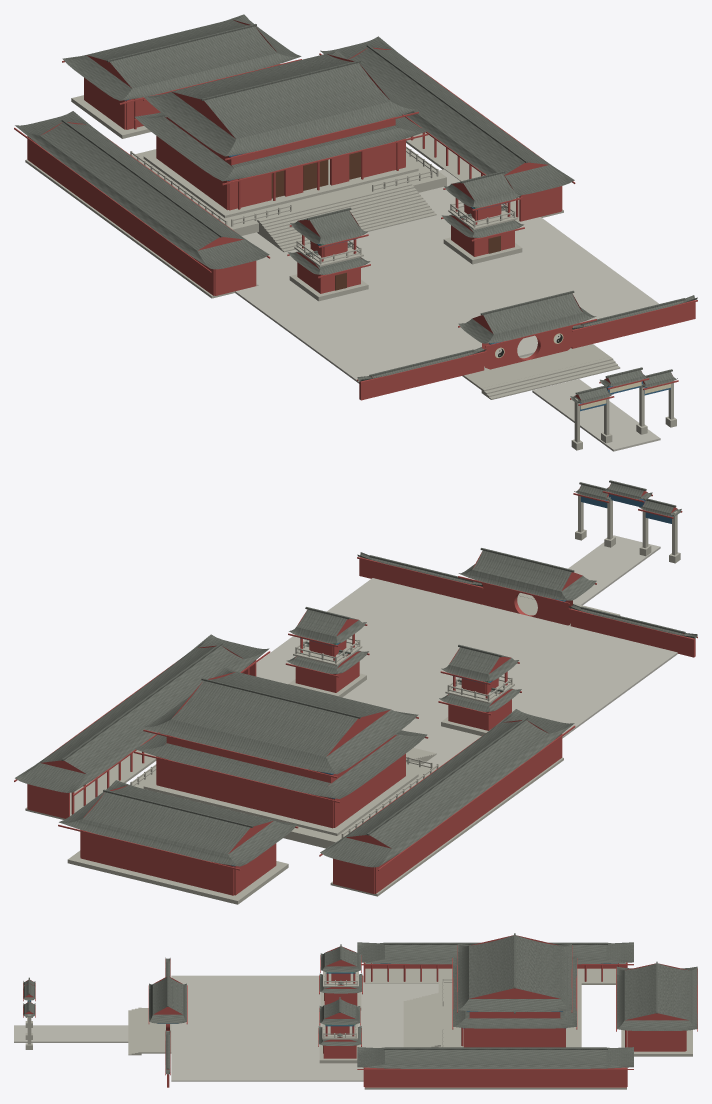
The model's file is zhengyi-study.glb.
3 renders of one model, top to bottom at view 1: azimuth 30°, elevation 25°; view 2: azimuth 150°, elevation 25°; view 3: azimuth 270°, elevation 25°, orthographic. The views are drawn at different scales.
Parts seen in each view (by area): view 1: main courtyard paving, side gallery roof upper gable slopes, Zhengyi central double-eave hall upper roof upper gable slop, side gallery roof flared skirt, rear hall observed footprint lower roof upper gable slopes, Zhengyi central double-eave hall upper roof flared skirt, Zhengyi central double-eave hall lower roof flared skirt, main hall access stair, front red boundary wall, side gallery outer wall, rear hall observed footprint lower roof flared skirt, Zhengyi central double-eave hall front wall (+28 smaller); view 2: main courtyard paving, side gallery roof upper gable slopes, Zhengyi central double-eave hall upper roof upper gable slop, side gallery roof flared skirt, rear hall observed footprint lower roof upper gable slopes, Zhengyi central double-eave hall upper roof flared skirt, Zhengyi central double-eave hall back wall, Zhengyi central double-eave hall lower roof flared skirt, rear hall observed footprint back wall, side gallery outer wall, front red boundary wall, rear hall observed footprint lower roof flared skirt (+24 smaller); view 3: main courtyard paving, side gallery roof upper gable slopes, side gallery outer wall, Zhengyi central double-eave hall upper roof upper gable slop, side gallery roof flared skirt, rear hall observed footprint lower roof upper gable slopes, Zhengyi central double-eave hall upper roof flared skirt, side gallery floor, Zhengyi central double-eave hall lower roof flared skirt, Zhengyi central double-eave hall side wall, south approach path, main hall access stair (+26 smaller).
Part boxes in pixels (x1,y1,x2,y2): main courtyard paving: [235, 169, 658, 383]; side gallery roof upper gable slopes: [40, 47, 548, 250]; Zhengyi central double-eave hall upper roof upper gable slop: [172, 54, 390, 139]; side gallery roof flared skirt: [15, 36, 574, 269]; rear hall observed footprint lower roof upper gable slopes: [87, 19, 277, 88]; Zhengyi central double-eave hall upper roof flared skirt: [144, 50, 417, 156]; Zhengyi central double-eave hall lower roof flared skirt: [135, 112, 427, 181]; main hall access stair: [257, 182, 436, 252]; front red boundary wall: [359, 300, 695, 400]; side gallery outer wall: [27, 136, 562, 295]; rear hall observed footprint lower roof flared skirt: [62, 14, 301, 100]; Zhengyi central double-eave hall front wall: [228, 138, 405, 210]; main courtyard paving: [256, 578, 677, 767]; side gallery roof upper gable slopes: [40, 645, 548, 848]; Zhengyi central double-eave hall upper roof upper gable slop: [171, 671, 390, 756]; side gallery roof flared skirt: [15, 634, 574, 867]; rear hall observed footprint lower roof upper gable slopes: [82, 785, 273, 854]; Zhengyi central double-eave hall upper roof flared skirt: [144, 667, 418, 774]; Zhengyi central double-eave hall back wall: [156, 756, 333, 828]; Zhengyi central double-eave hall lower roof flared skirt: [135, 730, 427, 798]; rear hall observed footprint back wall: [80, 830, 234, 895]; side gallery outer wall: [27, 734, 562, 893]; front red boundary wall: [359, 557, 695, 657]; rear hall observed footprint lower roof flared skirt: [59, 780, 297, 866]; main courtyard paving: [171, 975, 438, 1081]; side gallery roof upper gable slopes: [385, 942, 606, 1063]; side gallery outer wall: [364, 965, 626, 1087]; Zhengyi central double-eave hall upper roof upper gable slop: [469, 935, 560, 998]; side gallery roof flared skirt: [357, 942, 633, 1068]; rear hall observed footprint lower roof upper gable slopes: [624, 963, 689, 1020]; Zhengyi central double-eave hall upper roof flared skirt: [457, 943, 571, 1011]; side gallery floor: [364, 968, 626, 1089]; Zhengyi central double-eave hall lower roof flared skirt: [453, 956, 576, 1028]; Zhengyi central double-eave hall side wall: [464, 1028, 564, 1047]; south approach path: [14, 1025, 128, 1042]; main hall access stair: [403, 992, 440, 1047].
Bounding box in the file's own units: 62.16 × 17.18 × 143.
10 materials, 1 textured.
